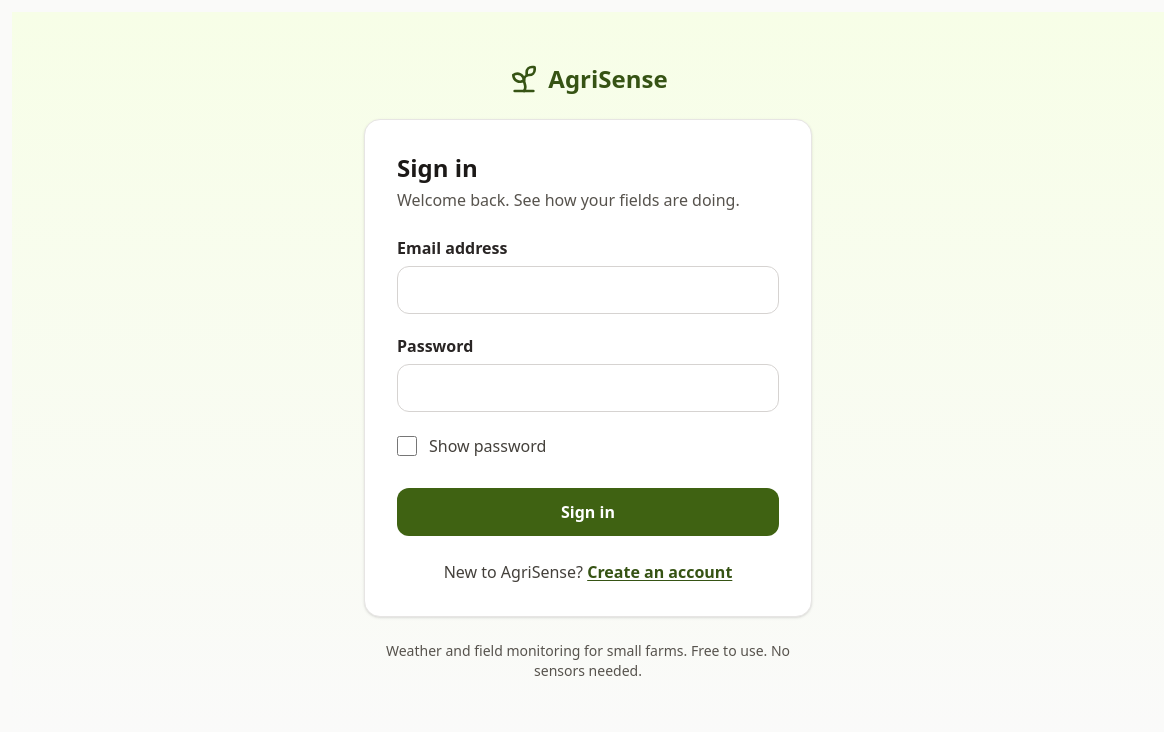
Test: LoginPage › signs in, stores the session and opens the app
In the field labelled "Email address": (588, 290) [397,266,779,314], type "  farmer@example.com "
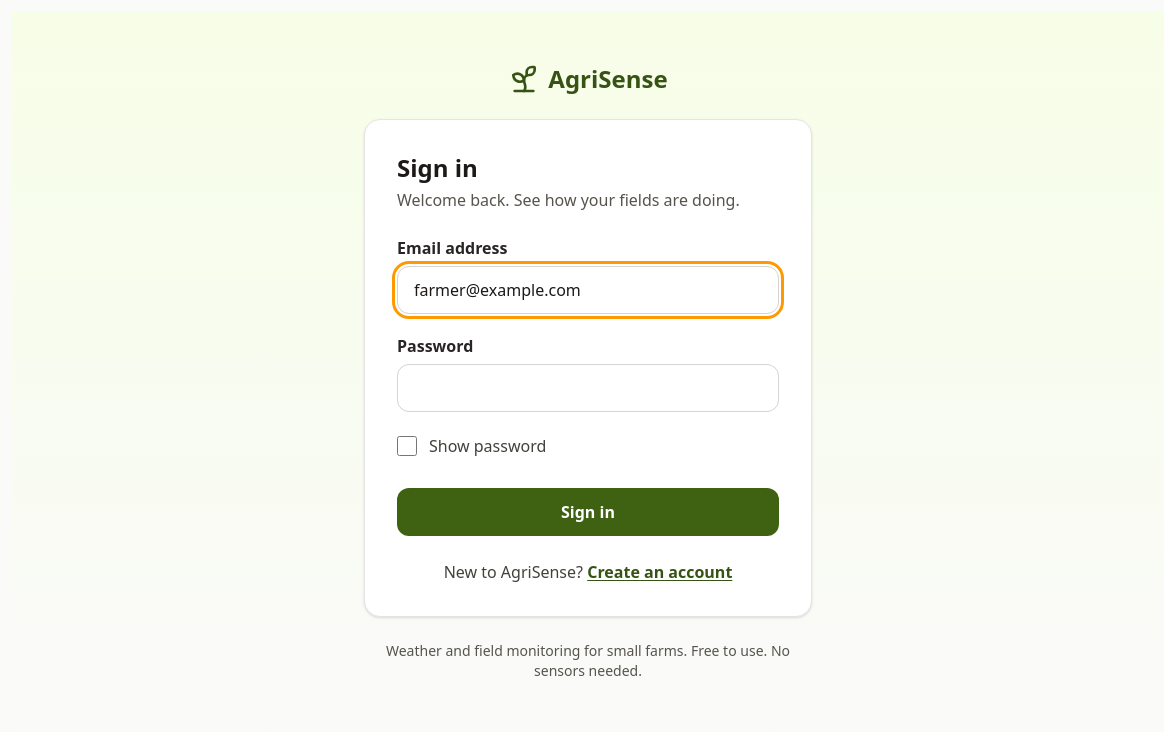
In the password field labelled "Password": (588, 388) [397,364,779,412], type "right-password-1"
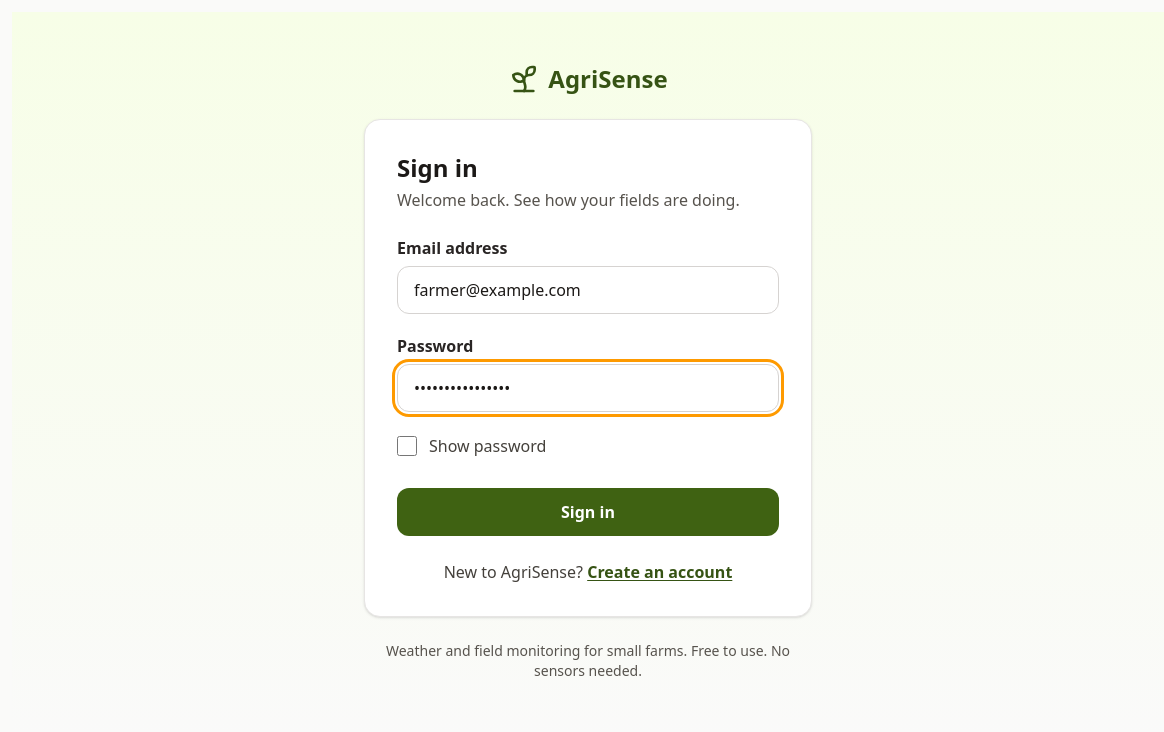
Click the button "Sign in": (588, 512) [397,488,779,536]
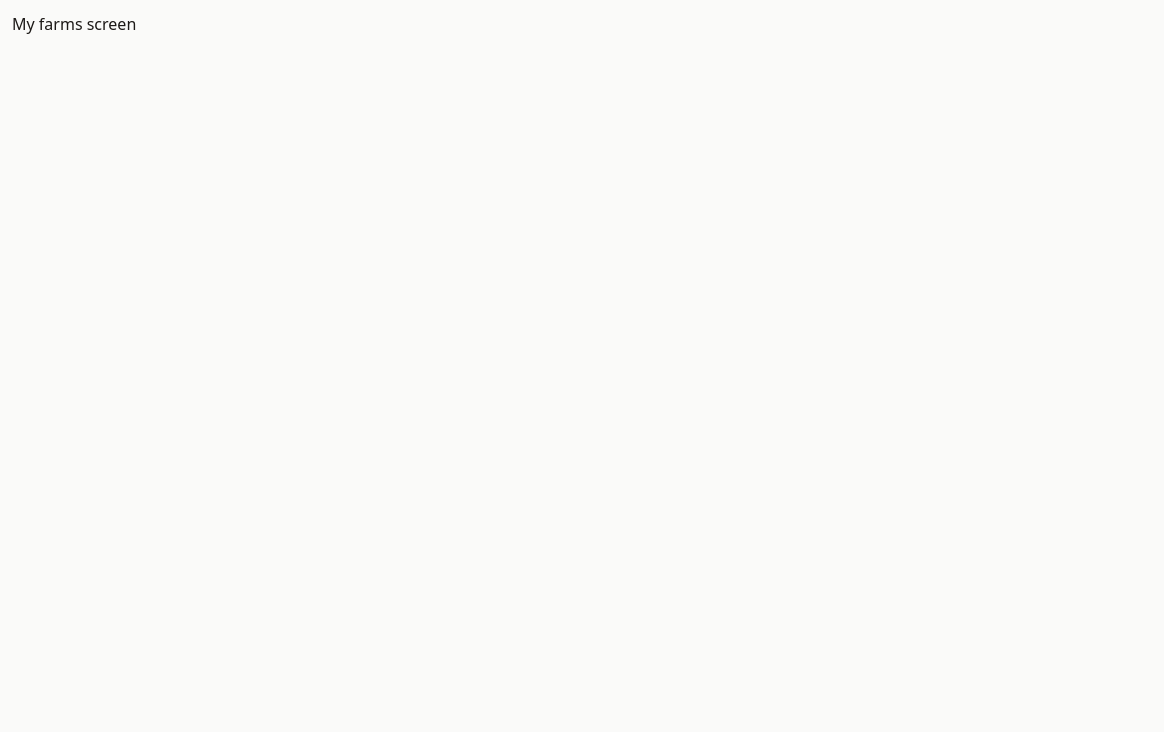
Check: the text "My farms screen" is shown, box [12,13,136,35]
